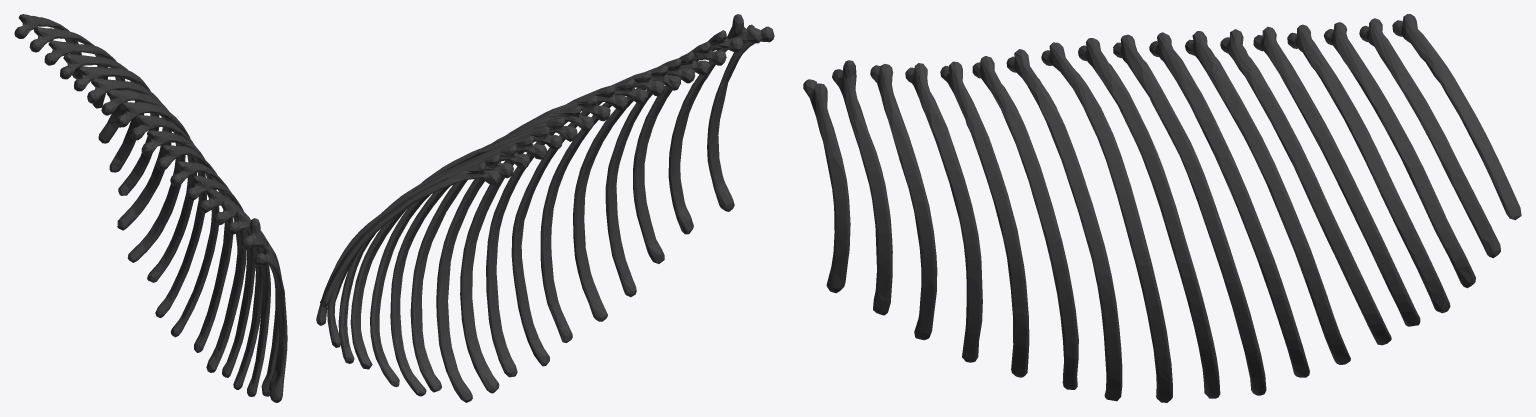
Rendered from Ribs_L.glb.
3 views of the same model, side by side, from view 1: azimuth 30°, elevation 25°; view 2: azimuth 150°, elevation 25°; view 3: azimuth 270°, elevation 25° (orthographic). The views are drawn at different scales.
Visible parts, largest first — view 1: Ribs_L; view 2: Ribs_L; view 3: Ribs_L.
Part boxes in pixels (x1,y1,x2,y2): Ribs_L: (14,14,287,402); Ribs_L: (316,14,774,402); Ribs_L: (803,14,1521,402).
Size of the model in its own units: 0.2865 by 0.5745 by 1.08.
1 material, 1 textured.
